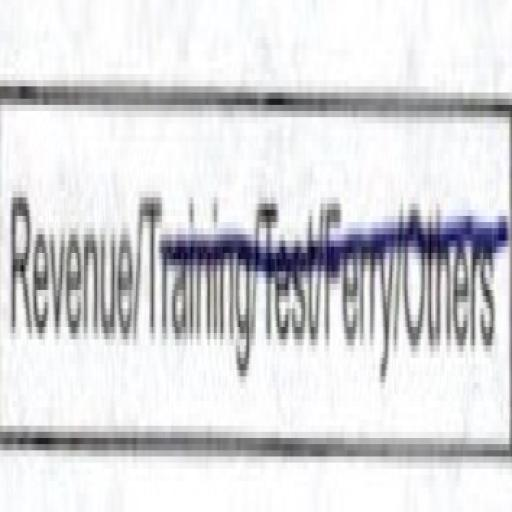check: (0, 0, 136, 506)
